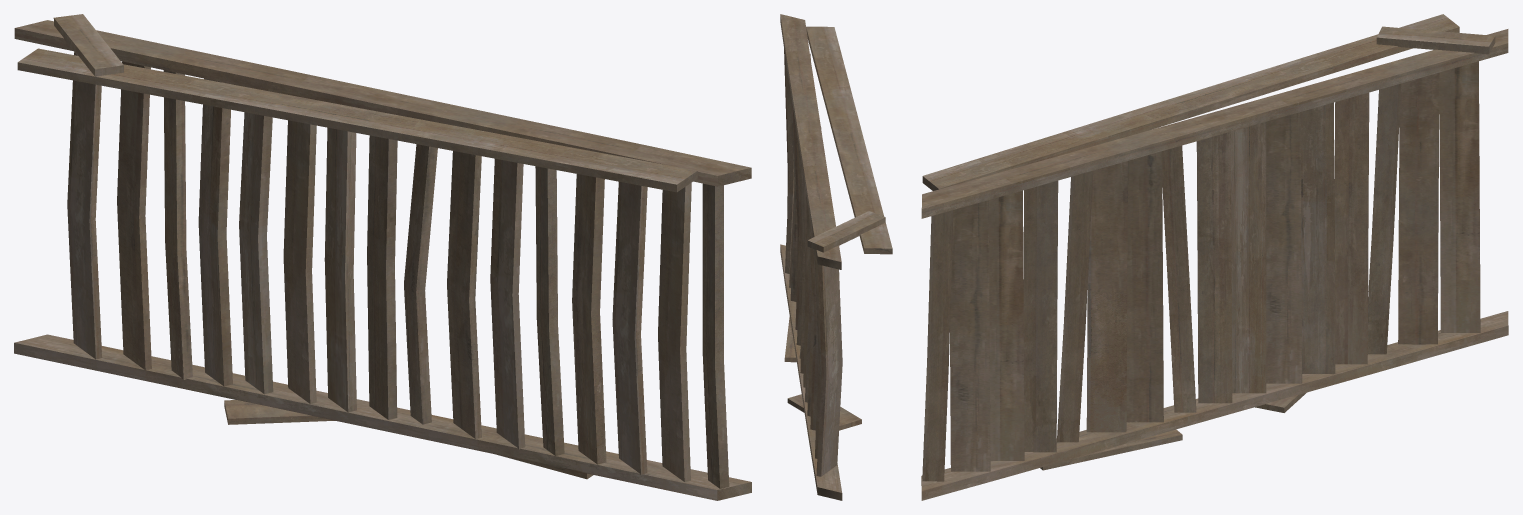
The model's file is props_forest_wood_stairs128.glb.
3 views of the same model, side by side, from view 1: azimuth 30°, elevation 25°; view 2: azimuth 150°, elevation 25°; view 3: azimuth 270°, elevation 25° (orthographic). The views are drawn at different scales.
Parts seen in each view (by area): view 1: models/props_forest/wood_stairs128; view 2: models/props_forest/wood_stairs128; view 3: models/props_forest/wood_stairs128.
Boxes of the visible parts, x1=… form: models/props_forest/wood_stairs128: x1=14, y1=14, x2=751, y2=500; models/props_forest/wood_stairs128: x1=780, y1=14, x2=892, y2=500; models/props_forest/wood_stairs128: x1=921, y1=14, x2=1508, y2=500.
Bounding box in the file's own units: 160 × 117 × 204.
1 material, 1 textured.
